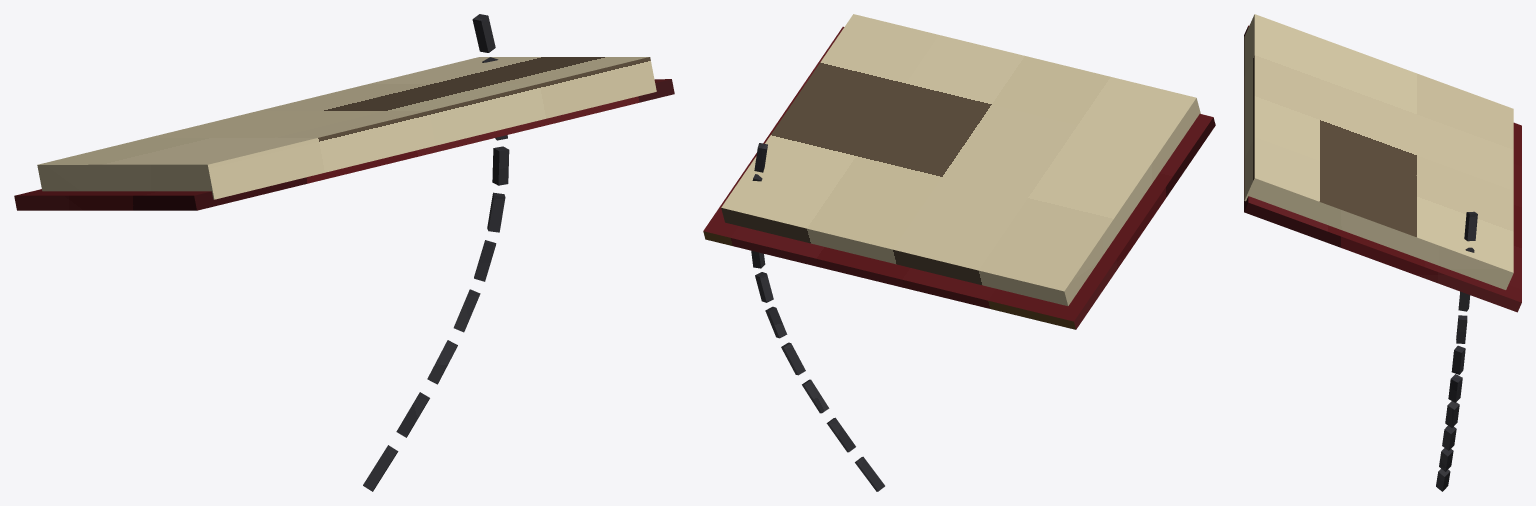
Rendered from chained_books.obj.
The picture shows the model from 3 angles, left to right: view 1: azimuth 30°, elevation 25°; view 2: azimuth 150°, elevation 25°; view 3: azimuth 270°, elevation 25°; orthographic projection. The views are drawn at different scales.
Visible parts, largest first — view 1: chained_books; view 2: chained_books; view 3: chained_books.
Boxes of the visible parts, x1=… form: chained_books: x1=14, y1=14, x2=674, y2=491; chained_books: x1=703, y1=14, x2=1215, y2=491; chained_books: x1=1244, y1=14, x2=1521, y2=491.
Size of the model in its own units: 0.54 by 0.5271 by 0.3579.
